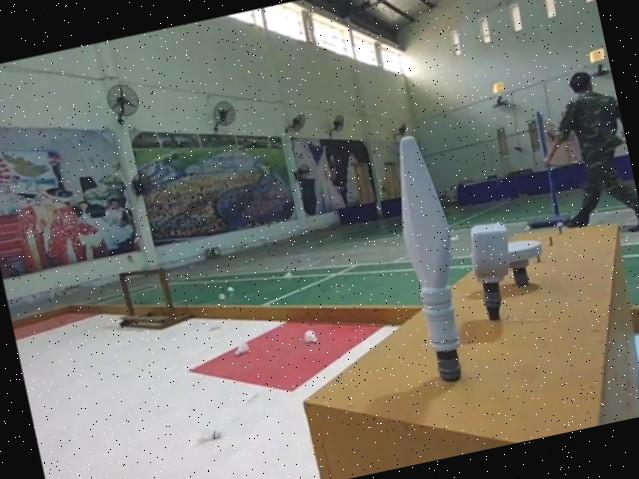Fist: (461, 213, 526, 326)
Hand: (502, 232, 551, 290)
Sph: (380, 132, 487, 393)
